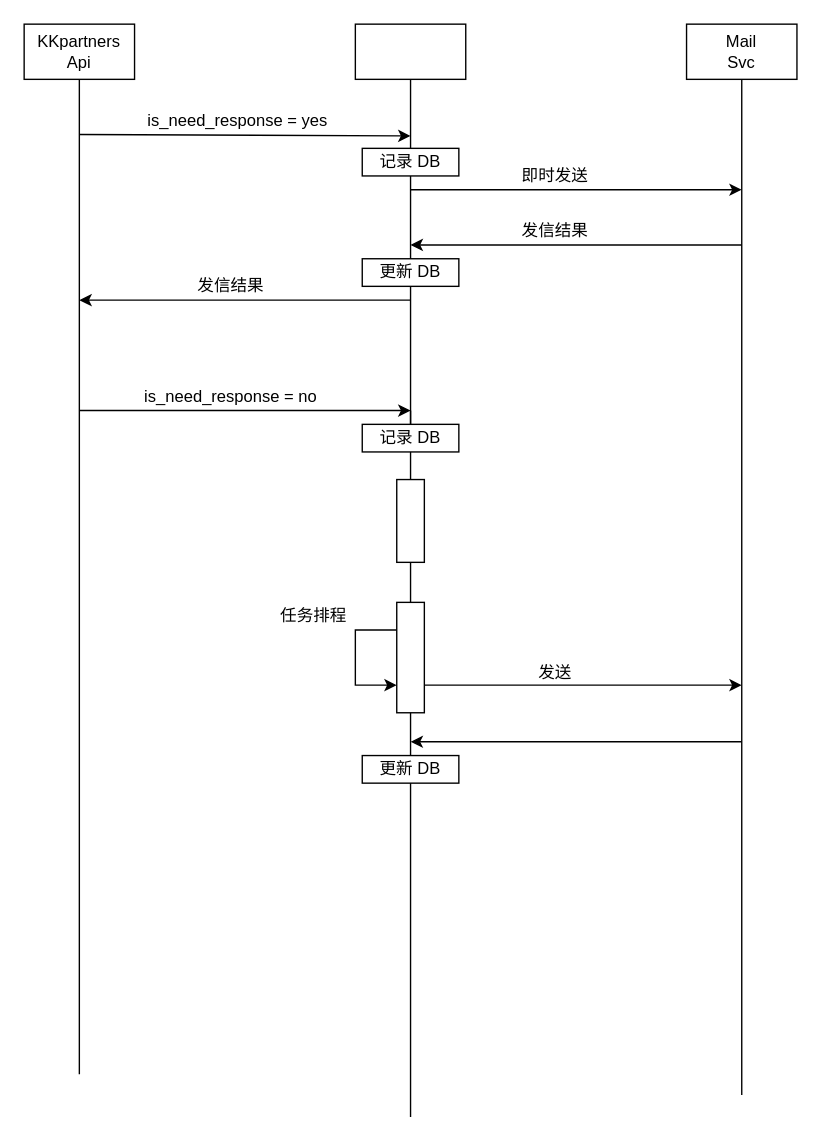
Image size: 821x1143. Some labels were removed from this diagram. The shapes that lost their labels are listed below. From the top down, each one's centre as x and y in pixels, then its label:
pixel 410 51: KKpartners Svc
pixel 409 520: 进入队列
pixel 409 657: 消耗队列
